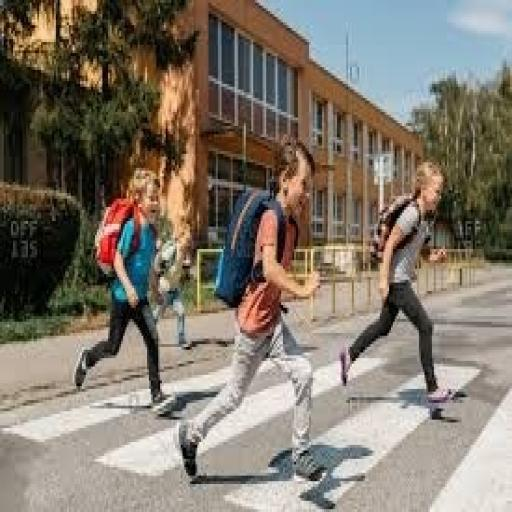running: (175, 131, 330, 487), (337, 156, 456, 408), (70, 165, 178, 417)
